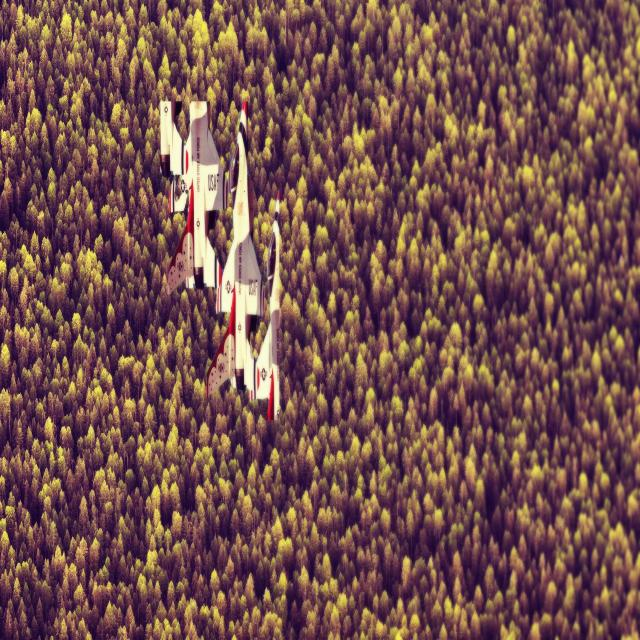airplane: (206, 99, 267, 399), (159, 98, 227, 296), (252, 189, 282, 421)
